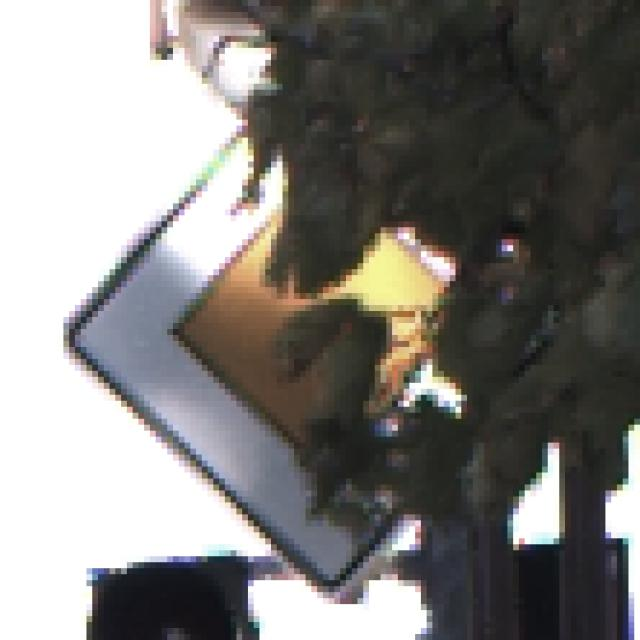Main Road: (59, 55, 589, 587)
